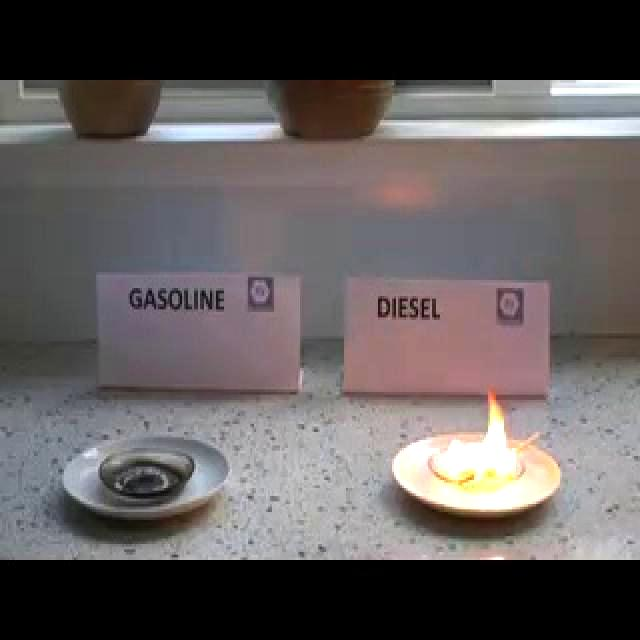fire: (441, 349, 517, 487)
